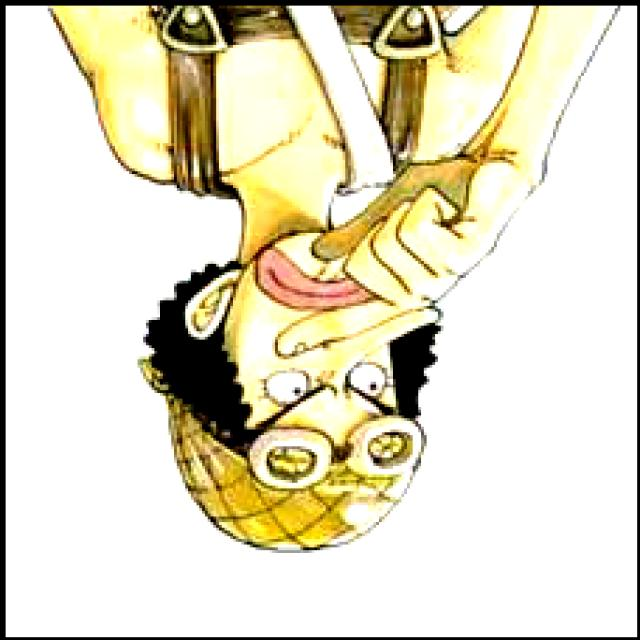Usopp: (59, 8, 601, 556)
